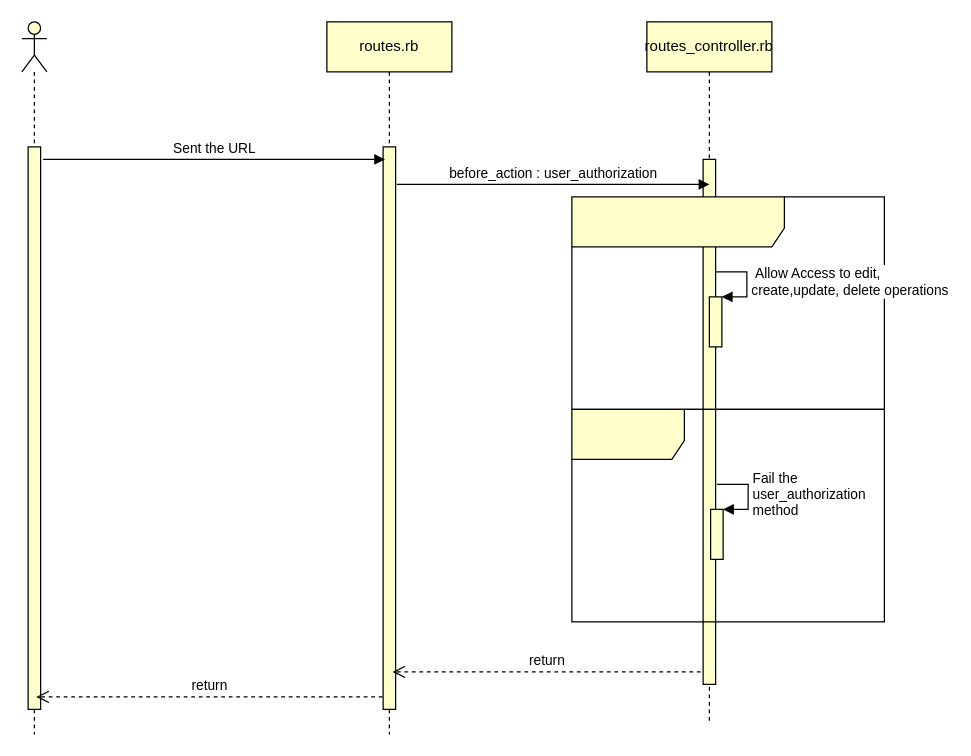
Some shapes in this 971 by 756 pixel diagram are drawn without their labels. Here are the shapes that lost their labels. From the top down, the centre of each, then its label:
point (727, 302): if session(role) != admin
point (727, 515): else
